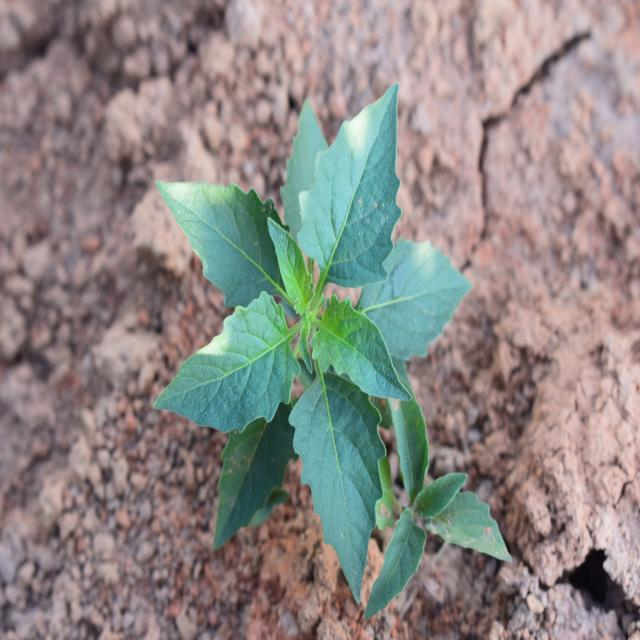Black_nightshade: (159, 96, 443, 556)
